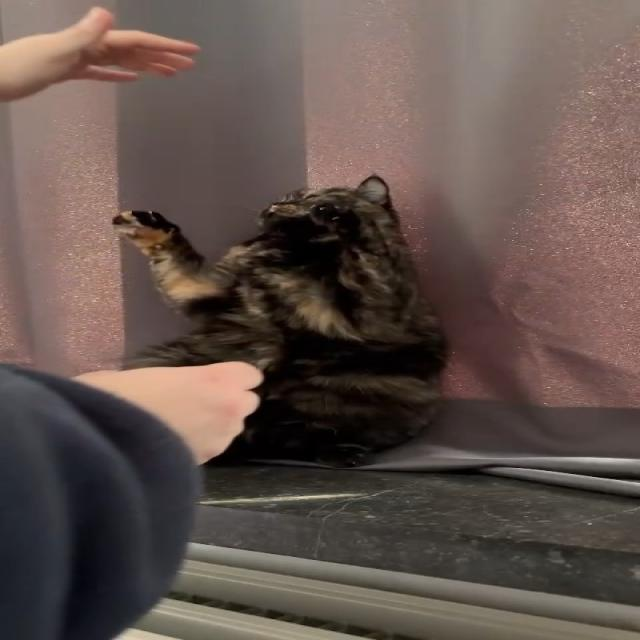authorized: (111, 173, 449, 469)
